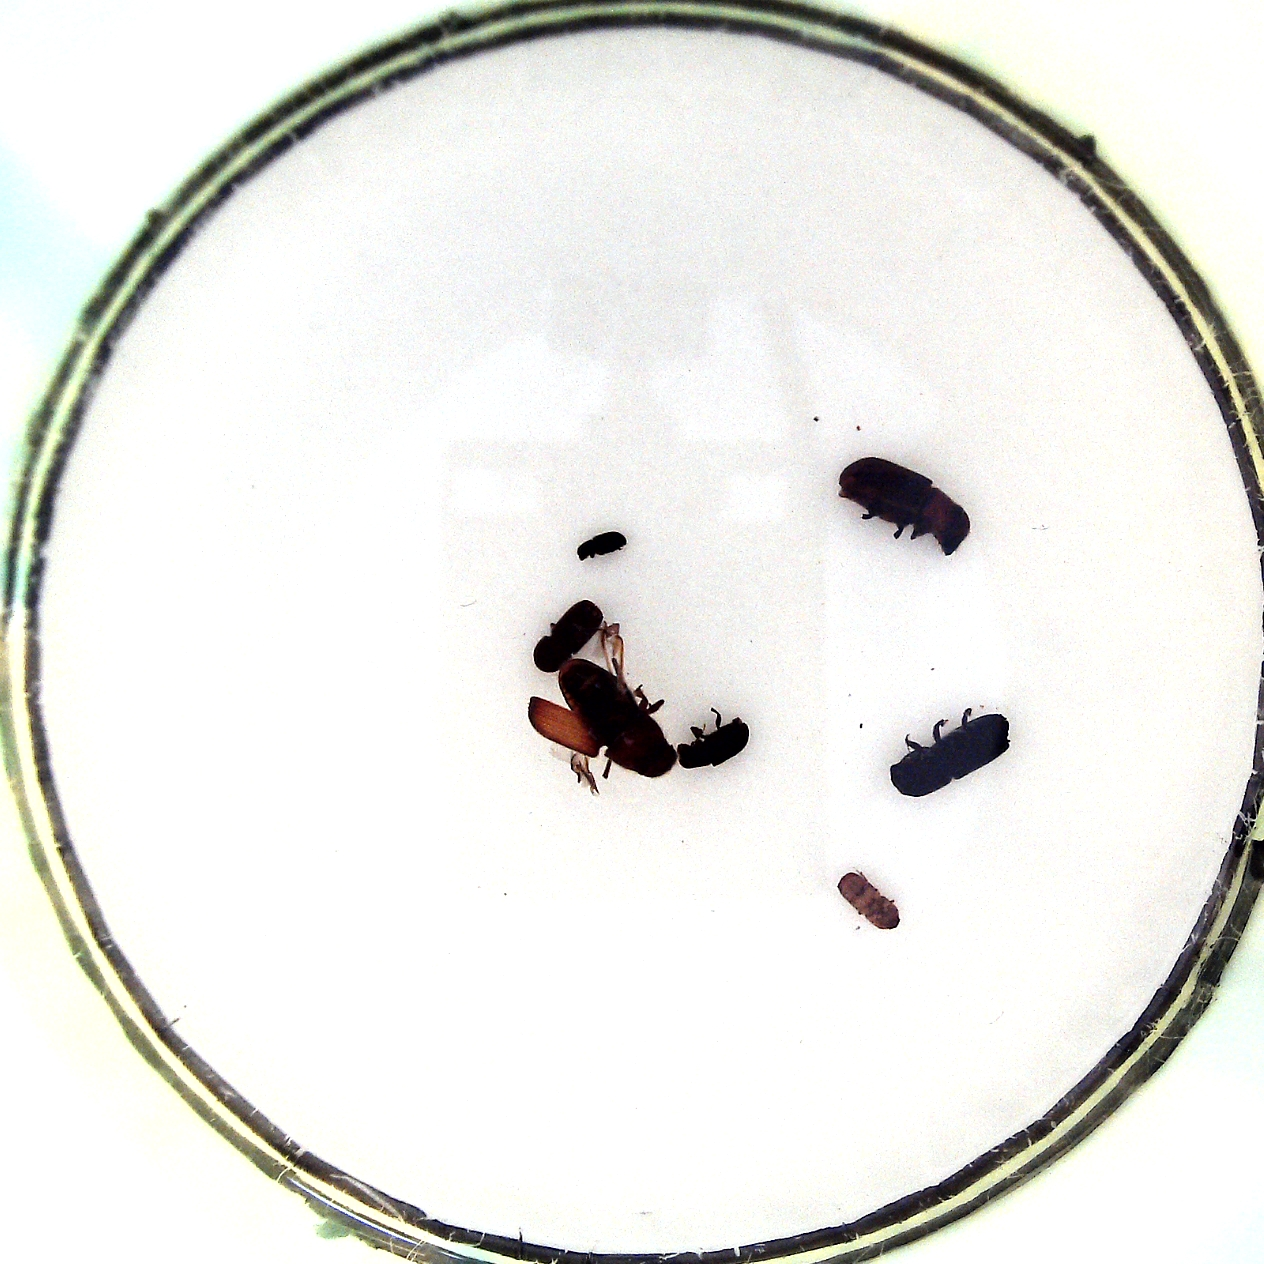Boerner: (883, 705, 1014, 798)
Leconte: (526, 657, 677, 795), (837, 454, 977, 554)
Linnaeus: (534, 590, 605, 673)
acuminatus: (831, 866, 905, 931)
armandi: (675, 707, 750, 777)
coleoptera: (569, 521, 632, 566)
